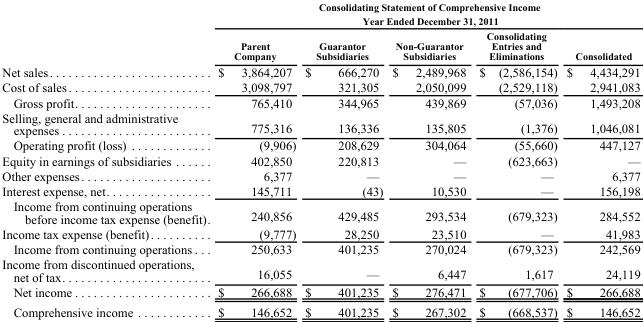table: (1, 0, 639, 318)
table column: (1, 0, 213, 318), (472, 0, 561, 318), (299, 0, 387, 318), (213, 0, 299, 318), (387, 0, 472, 318), (561, 0, 639, 318)
table column header: (1, 0, 639, 63)
table row: (1, 27, 639, 63), (1, 109, 639, 137), (1, 198, 639, 226), (1, 256, 639, 284), (1, 0, 639, 27), (1, 284, 639, 301), (1, 301, 639, 318), (1, 63, 639, 79), (1, 167, 639, 183), (1, 79, 639, 94), (1, 94, 639, 109), (1, 137, 639, 152), (1, 152, 639, 167), (1, 183, 639, 198), (1, 226, 639, 241), (1, 241, 639, 256)
table spanning cell: (213, 0, 639, 27)
